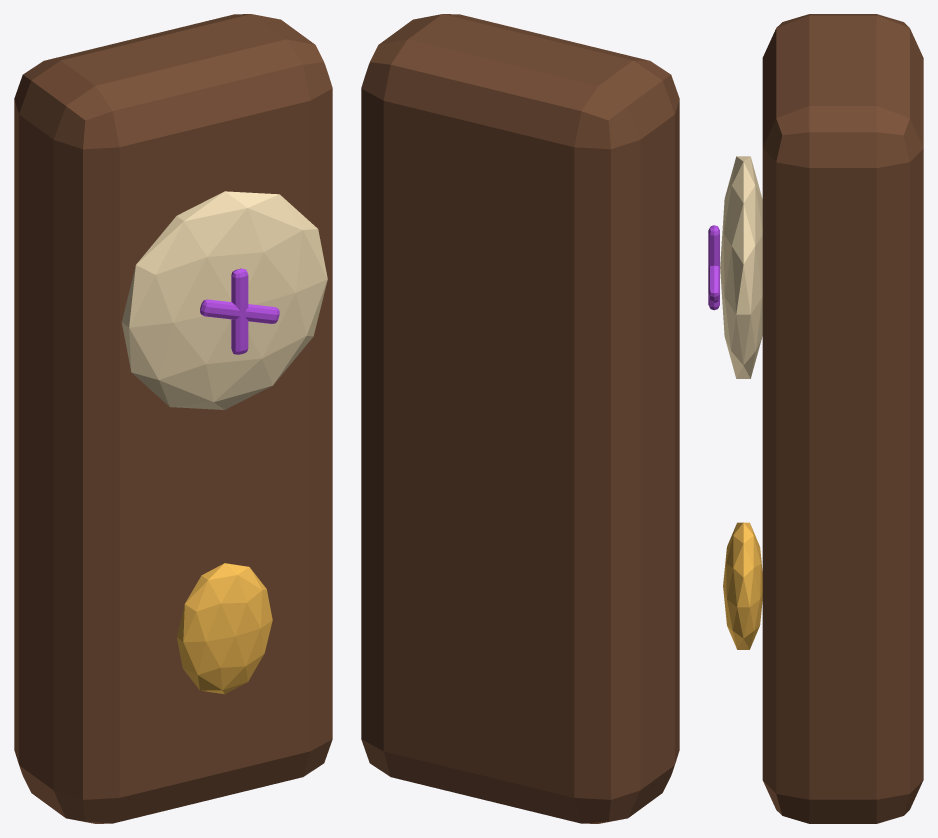
The model's file is clock.glb.
3 renders of one model, left to right at view 1: azimuth 30°, elevation 25°; view 2: azimuth 150°, elevation 25°; view 3: azimuth 270°, elevation 25°, orthographic. The views are drawn at different scales.
Visible parts, largest first — view 1: MoonClockMesh; view 2: MoonClockMesh; view 3: MoonClockMesh.
Part boxes in pixels (x1,y1,x2,y2): MoonClockMesh: (14,14,332,823); MoonClockMesh: (361,14,679,823); MoonClockMesh: (708,14,923,823).
Size of the model in its own units: 1.05 by 2.7 by 0.735.
